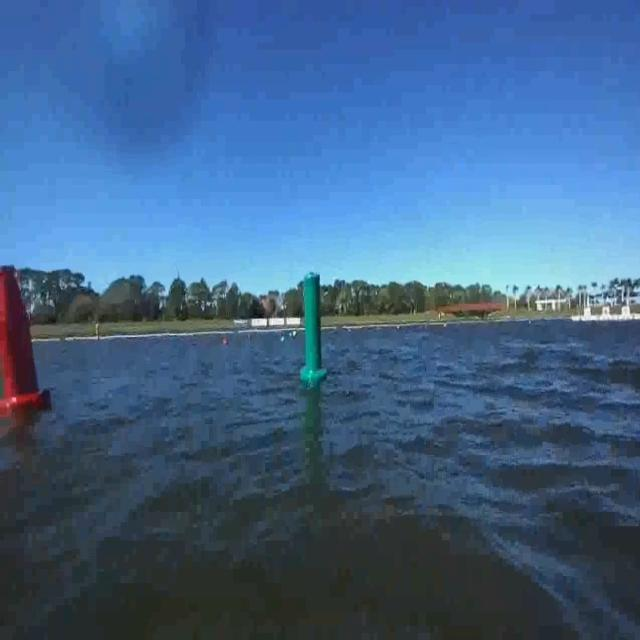green-column-buoy: (302, 272, 328, 385)
red-column-buoy: (0, 268, 50, 422)
